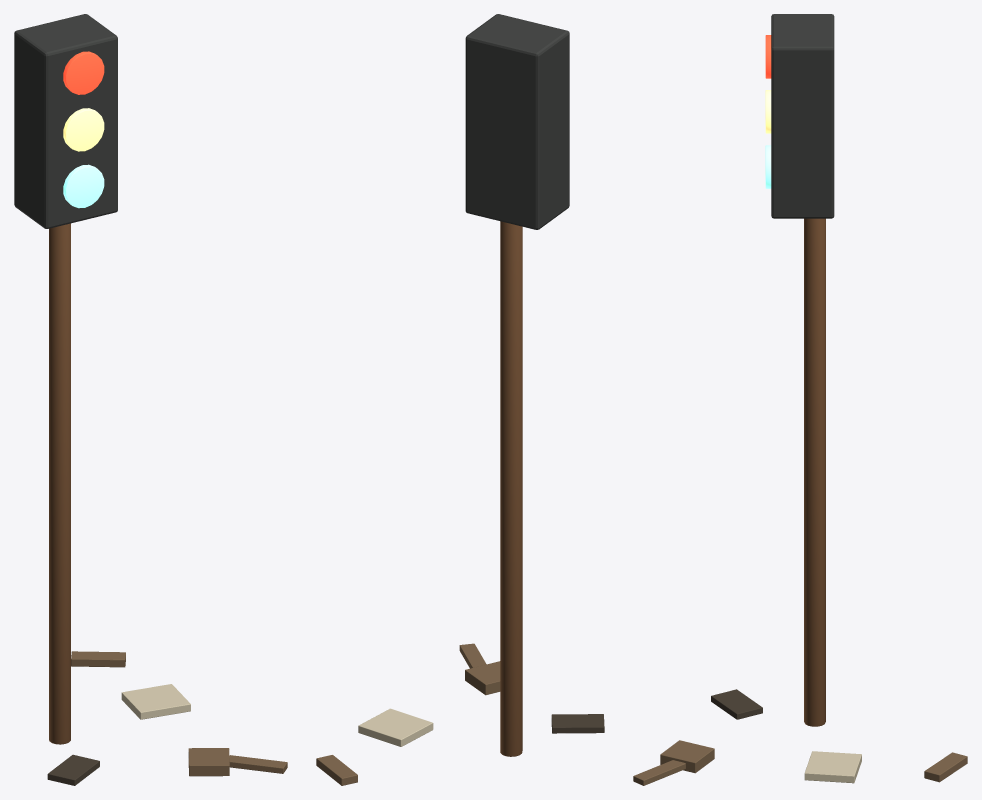
The model's file is dz_urban_traffic_light_premium.glb.
3 views of the same model, side by side, from view 1: azimuth 30°, elevation 25°; view 2: azimuth 150°, elevation 25°; view 3: azimuth 270°, elevation 25° (orthographic). The views are drawn at different scales.
Parts seen in each view (by area): view 1: traffic_light_box, traffic_light_pole_bent, traffic_debris_01, traffic_lens_red, traffic_lens_amber, traffic_lens_green, traffic_debris_03, traffic_debris_02, traffic_debris_00, traffic_debris_04; view 2: traffic_light_box, traffic_light_pole_bent, traffic_debris_01, traffic_debris_02, traffic_debris_03, traffic_debris_00; view 3: traffic_light_box, traffic_light_pole_bent, traffic_debris_01, traffic_debris_03, traffic_debris_02, traffic_debris_00, traffic_debris_04.
Part boxes in pixels (x1,y1,x2,y2): traffic_light_box: (14, 14, 117, 228); traffic_light_pole_bent: (49, 223, 70, 744); traffic_debris_01: (121, 684, 190, 719); traffic_lens_red: (63, 51, 104, 94); traffic_lens_amber: (63, 108, 104, 151); traffic_lens_green: (63, 164, 104, 208); traffic_debris_03: (188, 748, 229, 776); traffic_debris_02: (47, 754, 99, 785); traffic_debris_00: (71, 651, 125, 667); traffic_debris_04: (229, 755, 287, 773); traffic_light_box: (465, 14, 569, 229); traffic_light_pole_bent: (500, 221, 522, 756); traffic_debris_01: (358, 708, 433, 746); traffic_debris_02: (551, 714, 604, 733); traffic_debris_03: (465, 661, 500, 695); traffic_debris_00: (316, 755, 357, 785); traffic_light_box: (771, 14, 834, 218); traffic_light_pole_bent: (804, 218, 825, 726); traffic_debris_01: (804, 751, 861, 783); traffic_debris_03: (660, 740, 714, 773); traffic_debris_02: (711, 689, 762, 719); traffic_debris_00: (924, 752, 967, 782); traffic_debris_04: (633, 760, 685, 785).
Size of the model in its own units: 0.8866 by 3.14 by 1.37.
